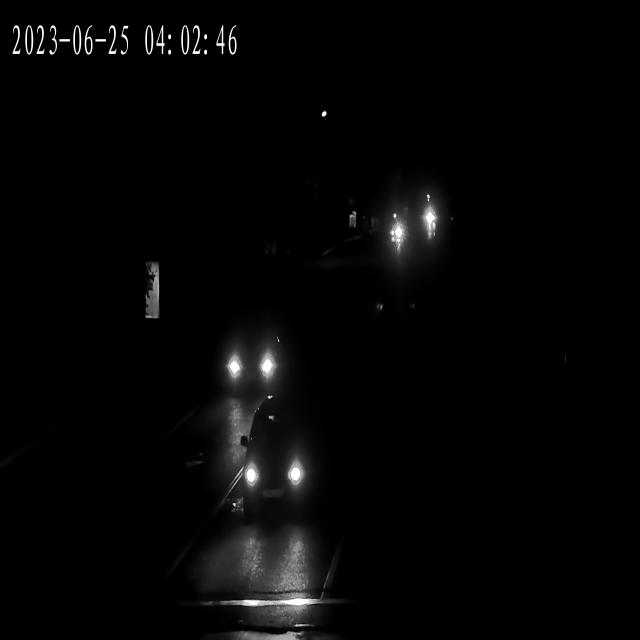Car: (234, 418, 316, 516), (220, 328, 285, 392), (385, 228, 404, 245)
